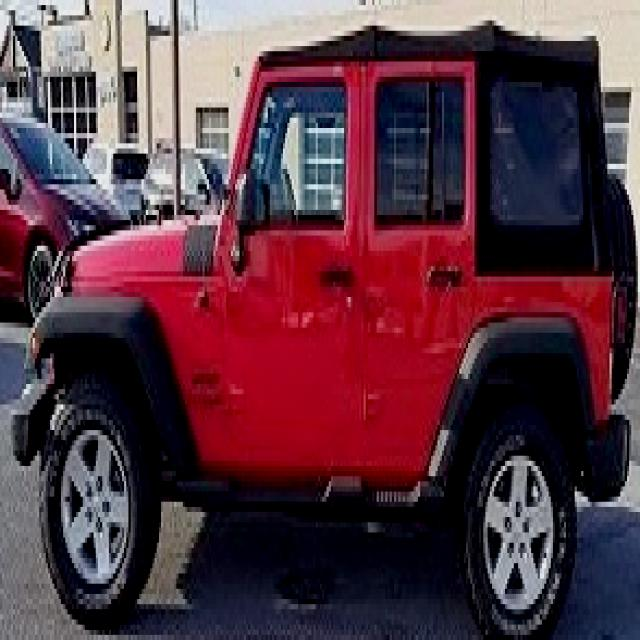red: (57, 34, 620, 598)
